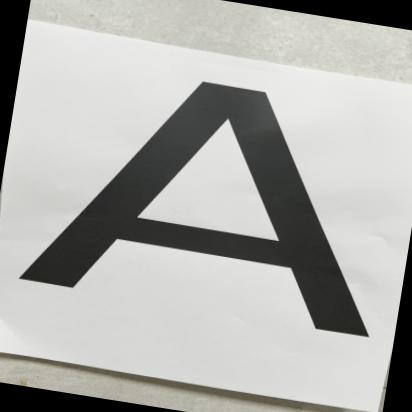seat: (0, 49, 402, 359)
